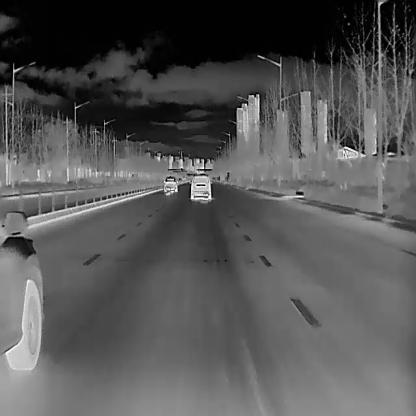car: (188, 173, 212, 200), (162, 174, 178, 192)
